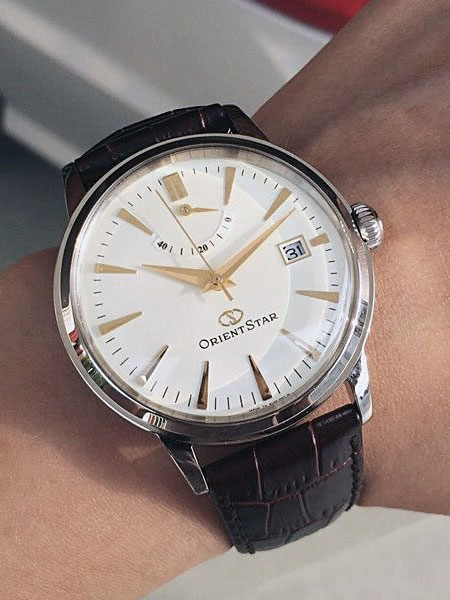clock: (75, 156, 351, 419)
